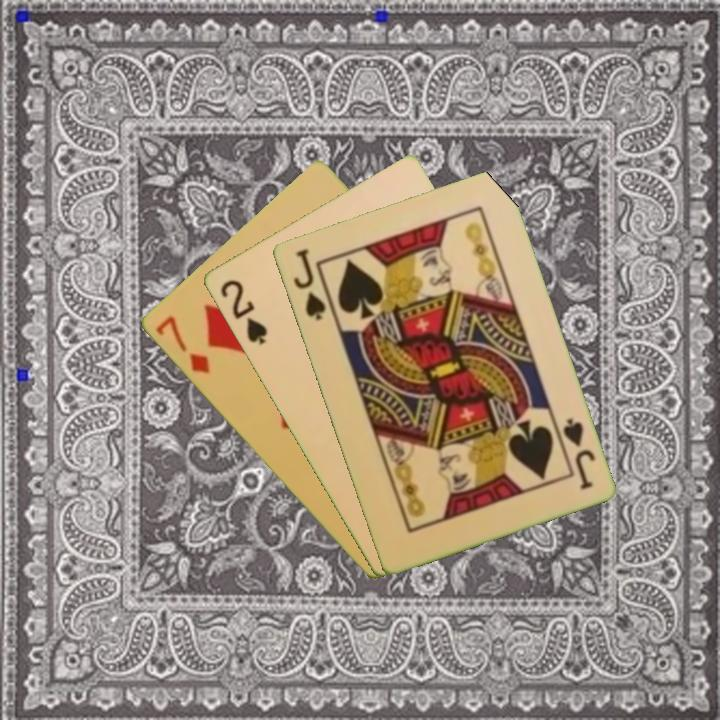2s: (216, 275, 270, 348)
7d: (152, 312, 212, 377)
Js: (558, 414, 598, 493), (289, 245, 328, 324)
